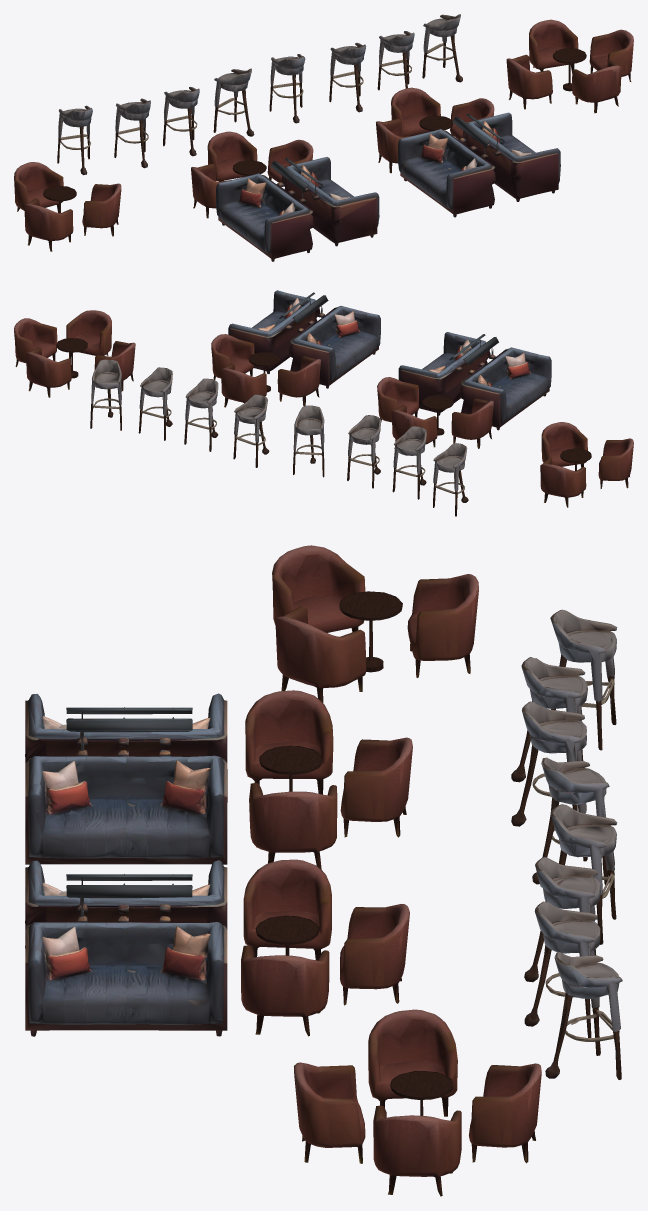
File: Chancery Rosewood_Bar_FURNITURE_BAKE_V4.glb
3 views of the same model, one above another, from view 1: azimuth 30°, elevation 25°; view 2: azimuth 150°, elevation 25°; view 3: azimuth 270°, elevation 25° (orthographic). The views are drawn at different scales.
Parts seen in each view (by area): view 1: EagleBarIndoorFurniture; view 2: EagleBarIndoorFurniture; view 3: EagleBarIndoorFurniture.
Part boxes in pixels (x1,y1,x2,y2): EagleBarIndoorFurniture: [14, 14, 633, 261]; EagleBarIndoorFurniture: [14, 290, 633, 516]; EagleBarIndoorFurniture: [25, 545, 622, 1196].
Size of the model in its own units: 10.35 by 0.99 by 4.55.
4 materials, 4 textured.
